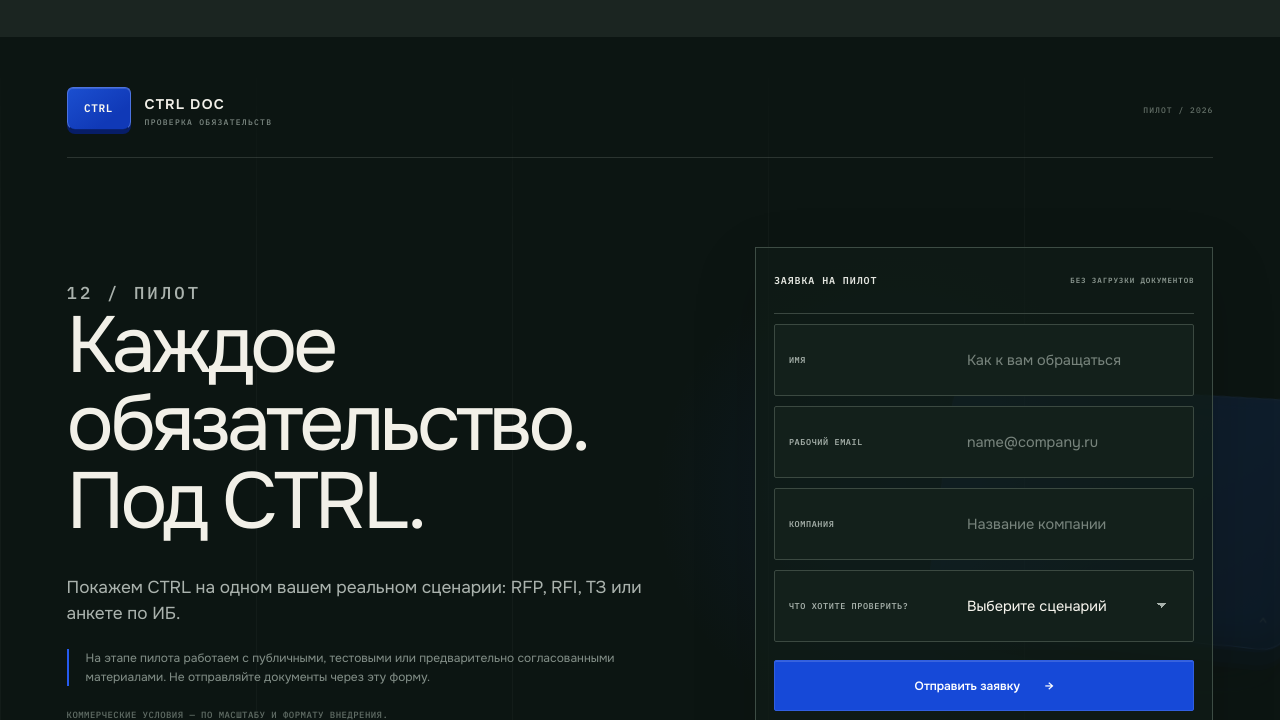
Scenario: CTRL DOC public landing › shows a delivery error and a clickable fallback email
The width and height of the screenshot is (1280, 720).
(page scrolled)
Type "Анна" into the field labelled "Имя" at (1068, 360), box [957,337,1180,383]
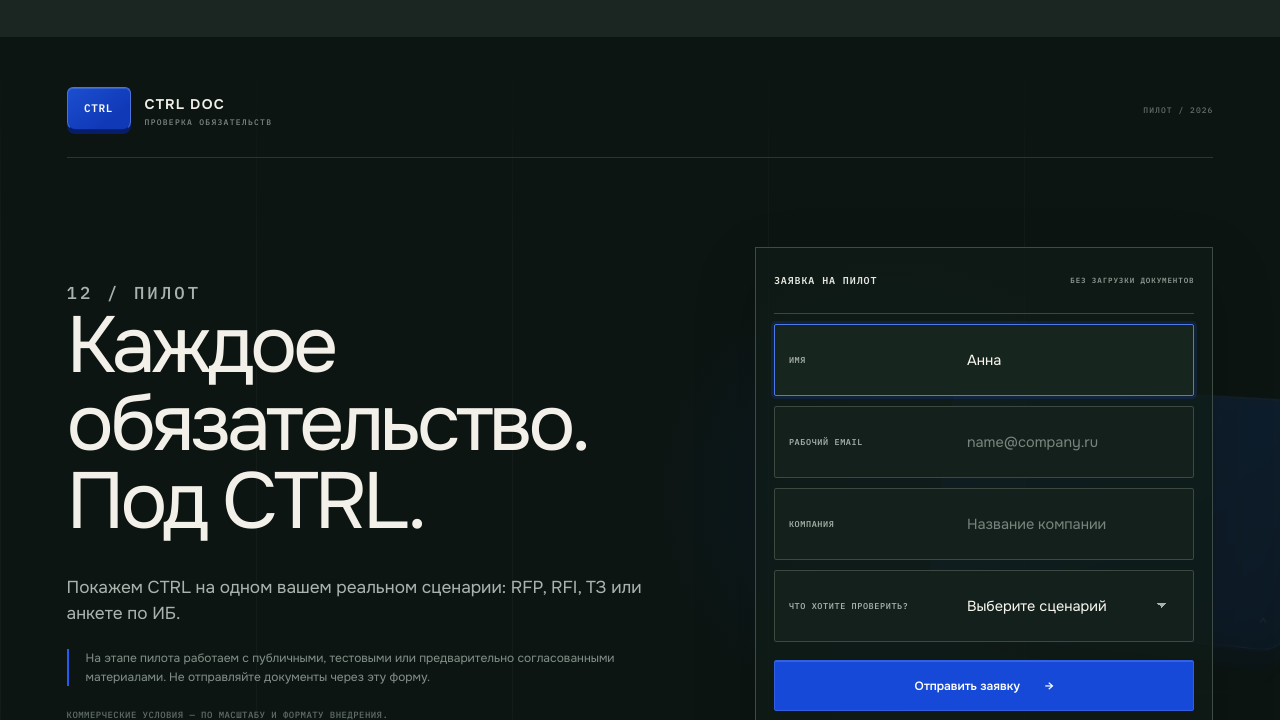
Type "anna@example.com" into the field labelled "Рабочий email" at (1068, 442), box [957,419,1180,465]
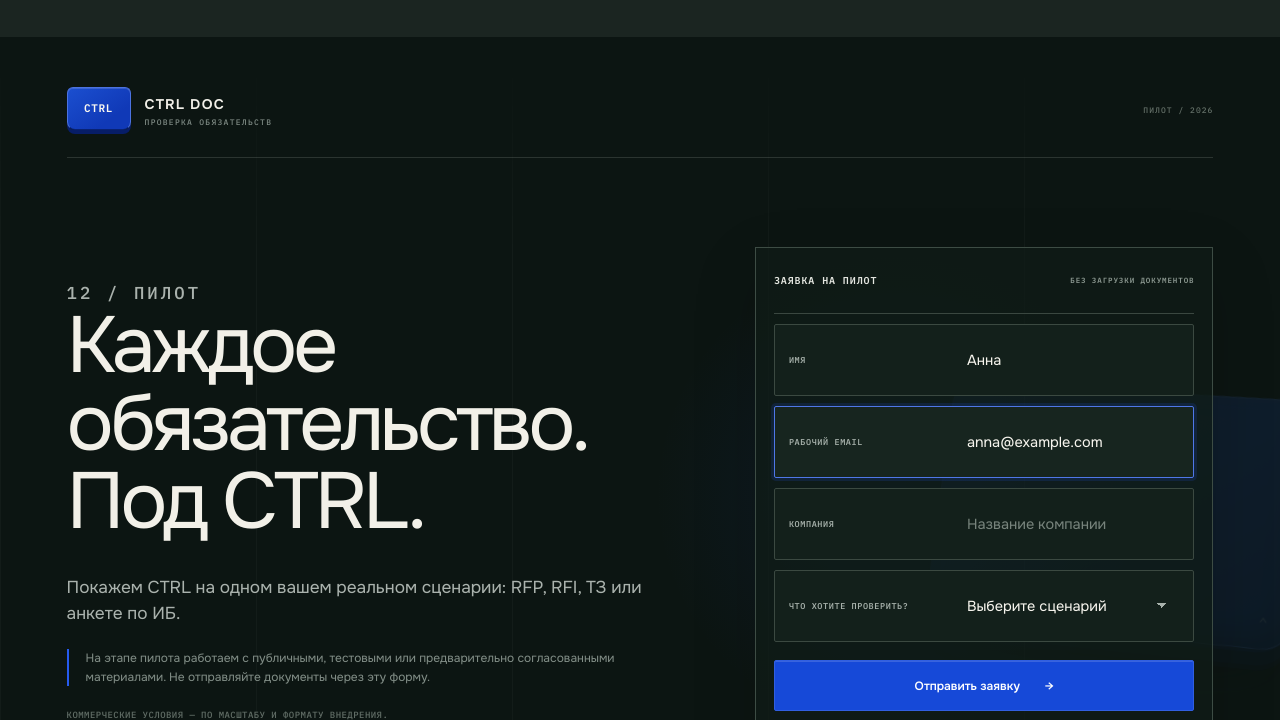
Type "Example" into the field labelled "Компания" at (1068, 524), box [957,501,1180,547]
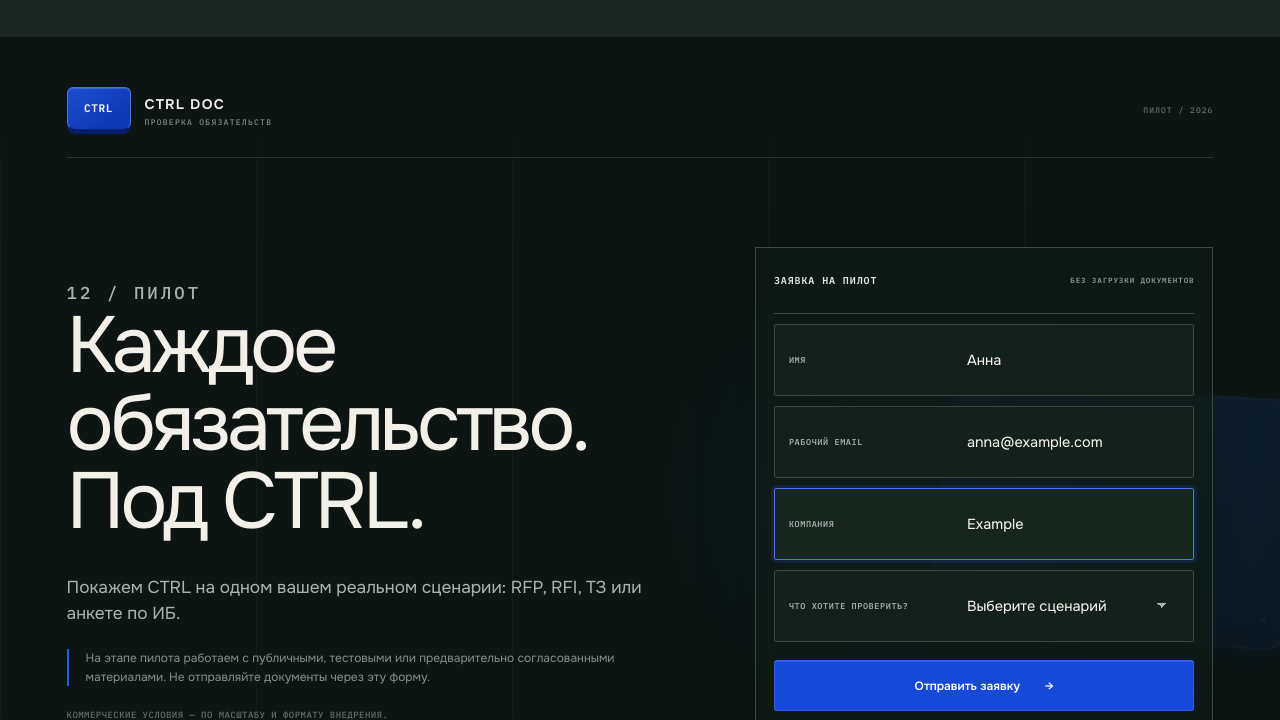
Select "RFP" in the dropdown labelled "Что хотите проверить?" at (1068, 606), box [957,583,1180,629]
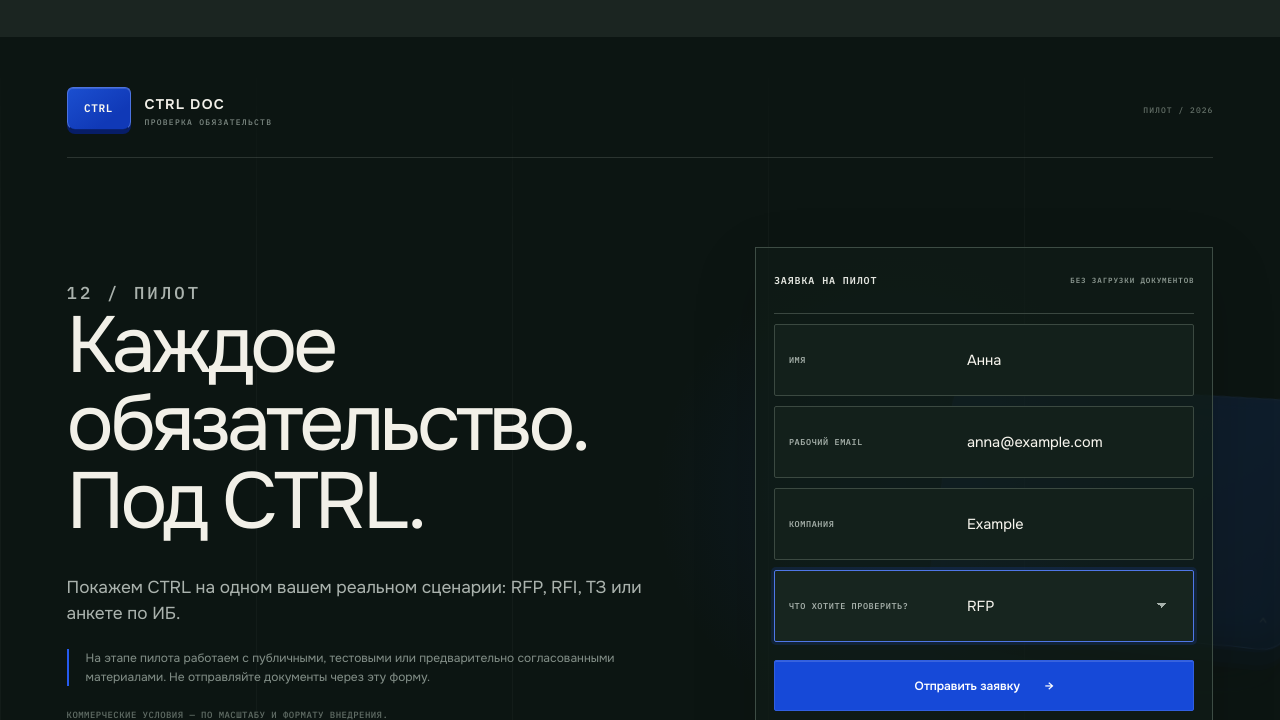
Click the button "Отправить заявку →" at (984, 686), box [774,660,1194,711]
(page scrolled)
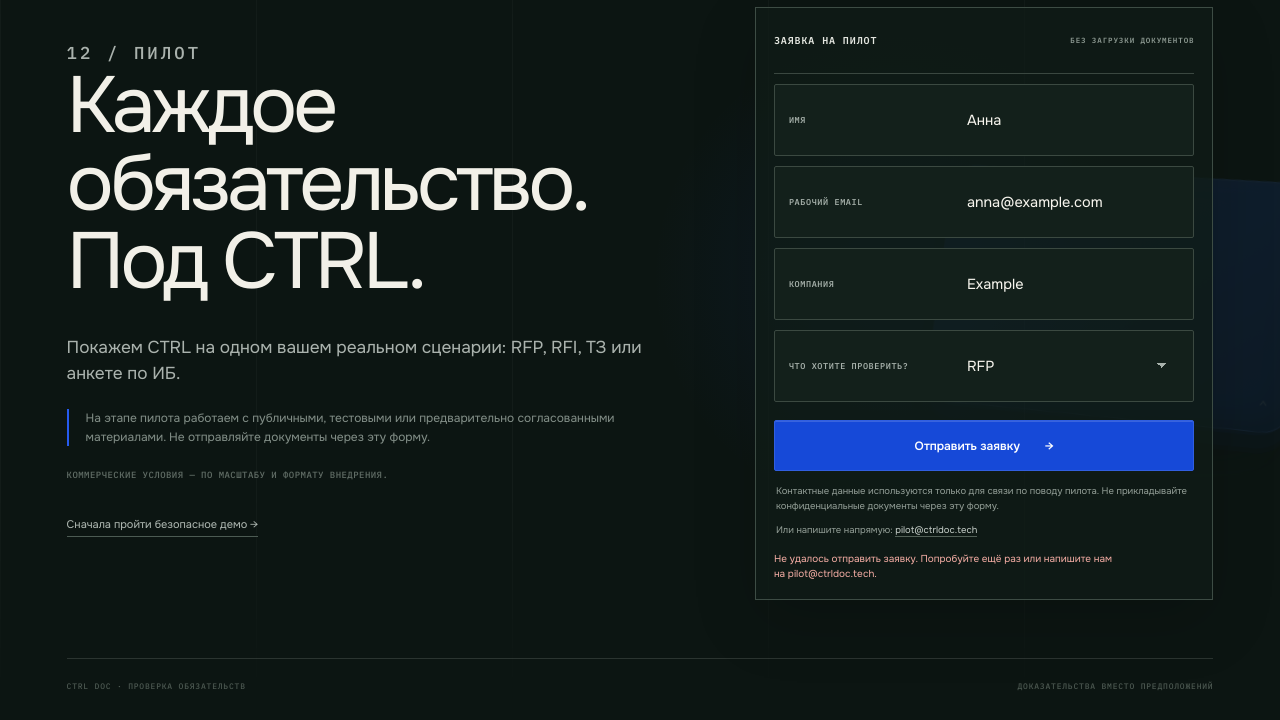
expect the message shows "Не удалось отправить заявку.": met, box [774,552,1112,580]
